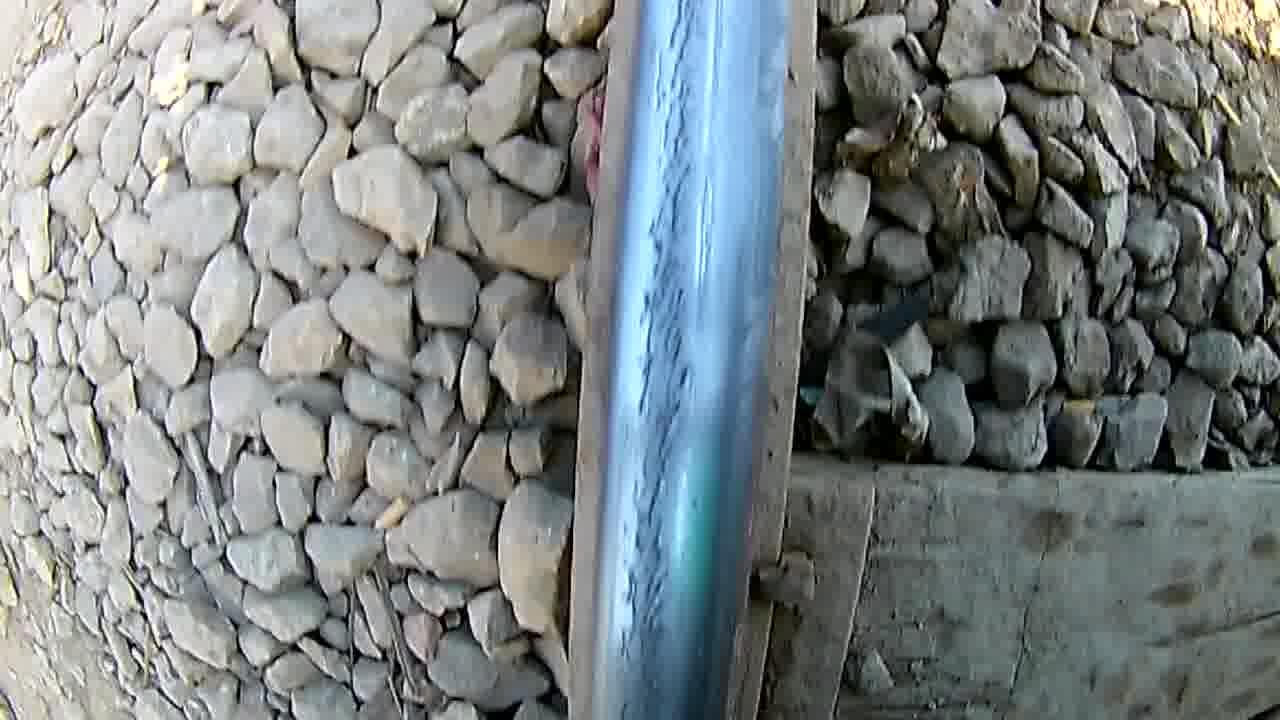normal_track: (617, 0, 716, 704)
